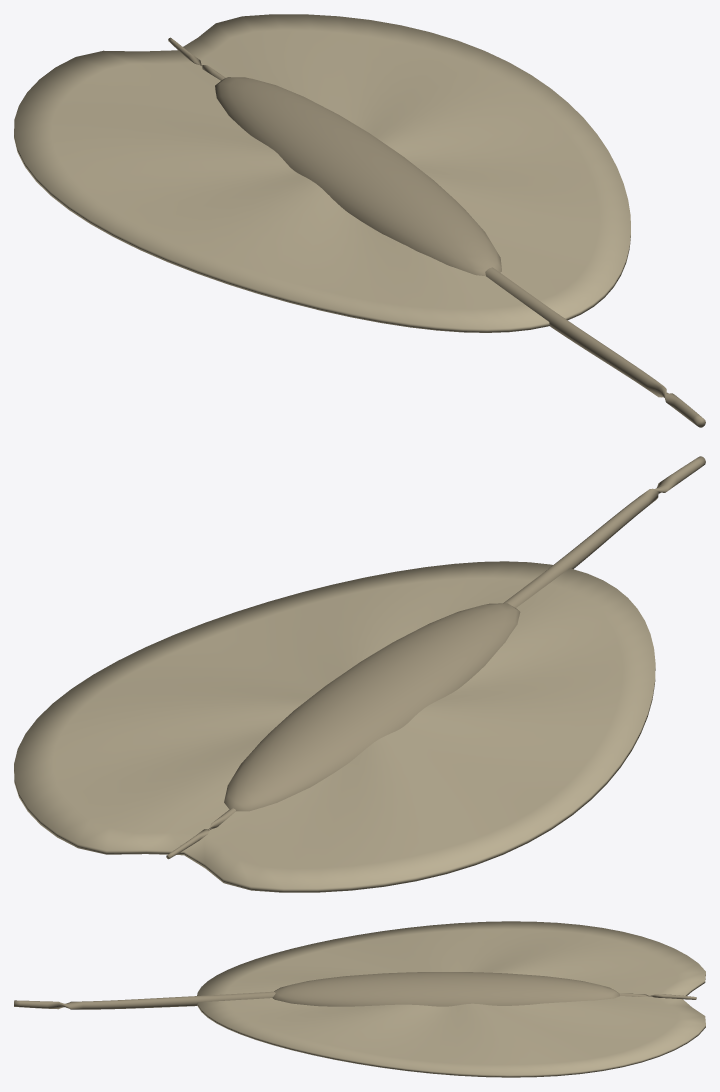
File: pteleoidea.glb
3 views of the same model, one above another, from view 1: azimuth 30°, elevation 25°; view 2: azimuth 150°, elevation 25°; view 3: azimuth 270°, elevation 25° (orthographic). The views are drawn at different scales.
Parts seen in each view (by area): view 1: original-two-coplanar-wings-notched-obovate-fruit, fusiform-central-locule-and-narrow-attached-pedicel-style; view 2: original-two-coplanar-wings-notched-obovate-fruit, fusiform-central-locule-and-narrow-attached-pedicel-style; view 3: original-two-coplanar-wings-notched-obovate-fruit, fusiform-central-locule-and-narrow-attached-pedicel-style.
Part boxes in pixels (x1,y1,x2,y2): original-two-coplanar-wings-notched-obovate-fruit: (14, 14, 630, 332); fusiform-central-locule-and-narrow-attached-pedicel-style: (168, 37, 705, 427); original-two-coplanar-wings-notched-obovate-fruit: (14, 561, 655, 892); fusiform-central-locule-and-narrow-attached-pedicel-style: (166, 456, 705, 859); original-two-coplanar-wings-notched-obovate-fruit: (197, 921, 705, 1077); fusiform-central-locule-and-narrow-attached-pedicel-style: (14, 972, 696, 1009).
Bounding box in the file's own units: 0.0236 × 0.00275 × 0.045.
